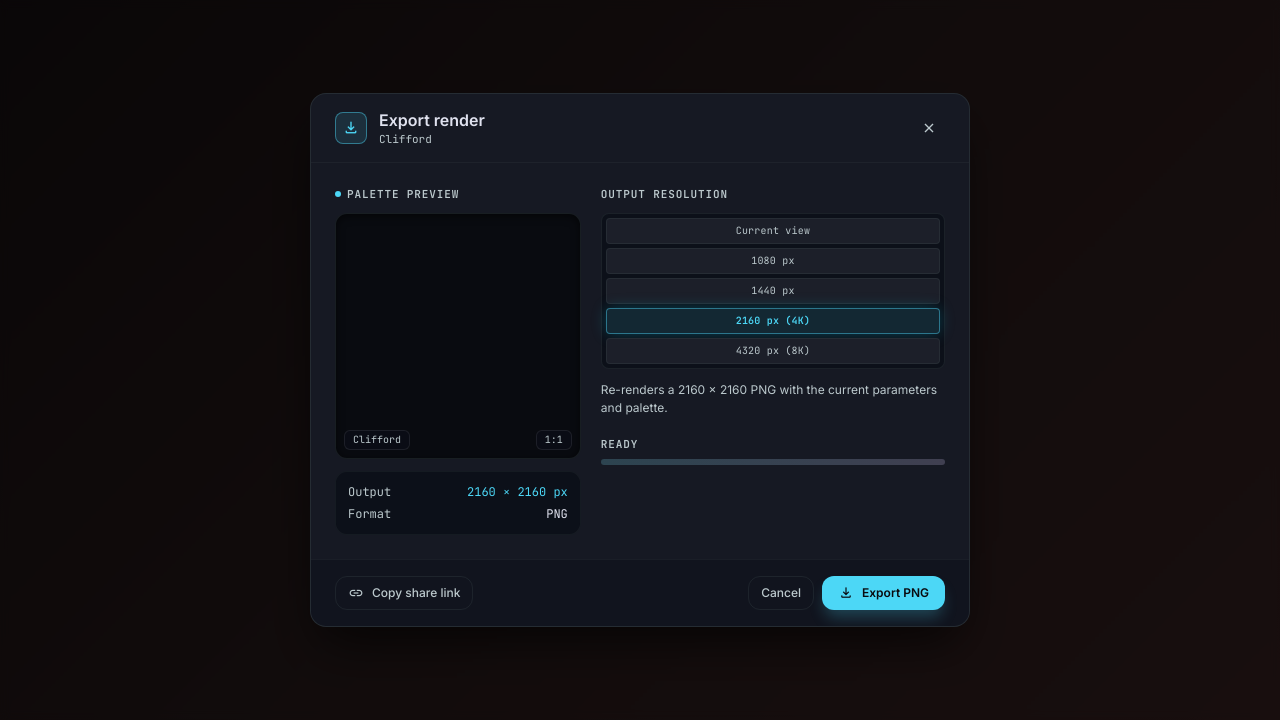
Test: ExportModal › shows the output summary for the chosen size
Expected: the text "Clifford" below "Export render" is shown, [379,132,432,146]
Click the radio button labelled "1440 px": (773, 291) [606,278,940,304]
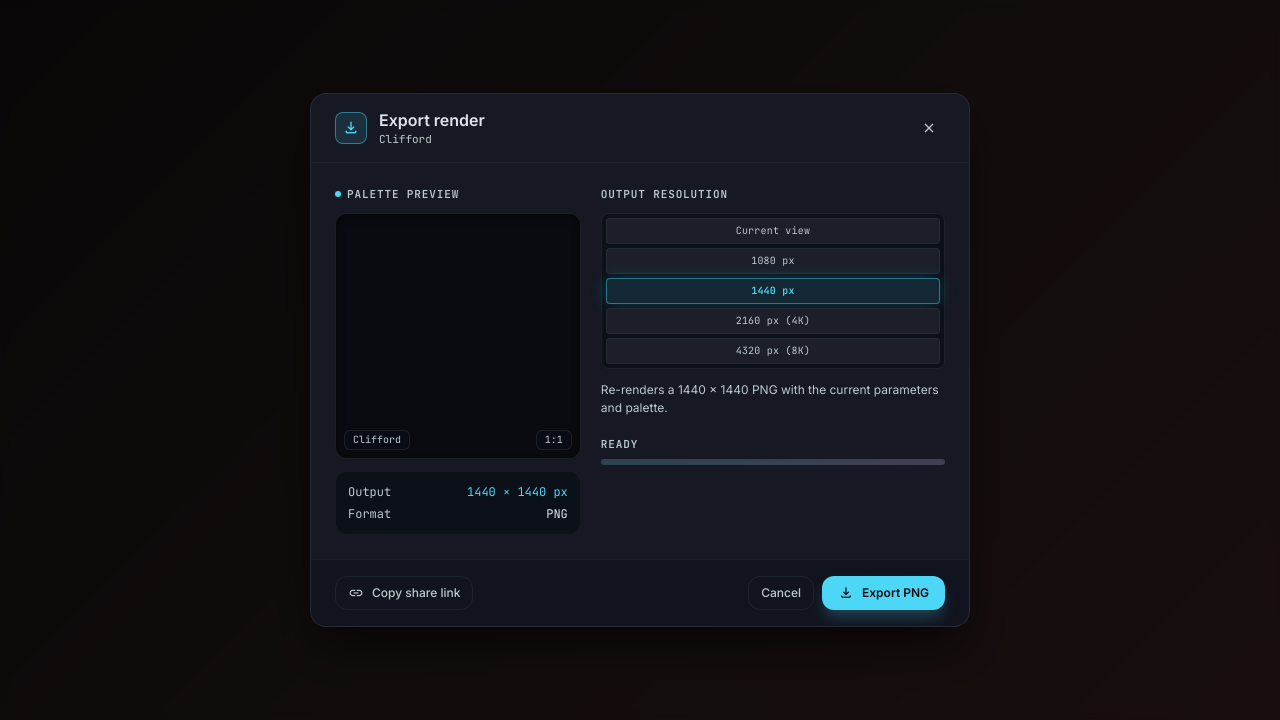
Expected: the text "1440 × 1440 px" is shown, [467,484,568,500]
